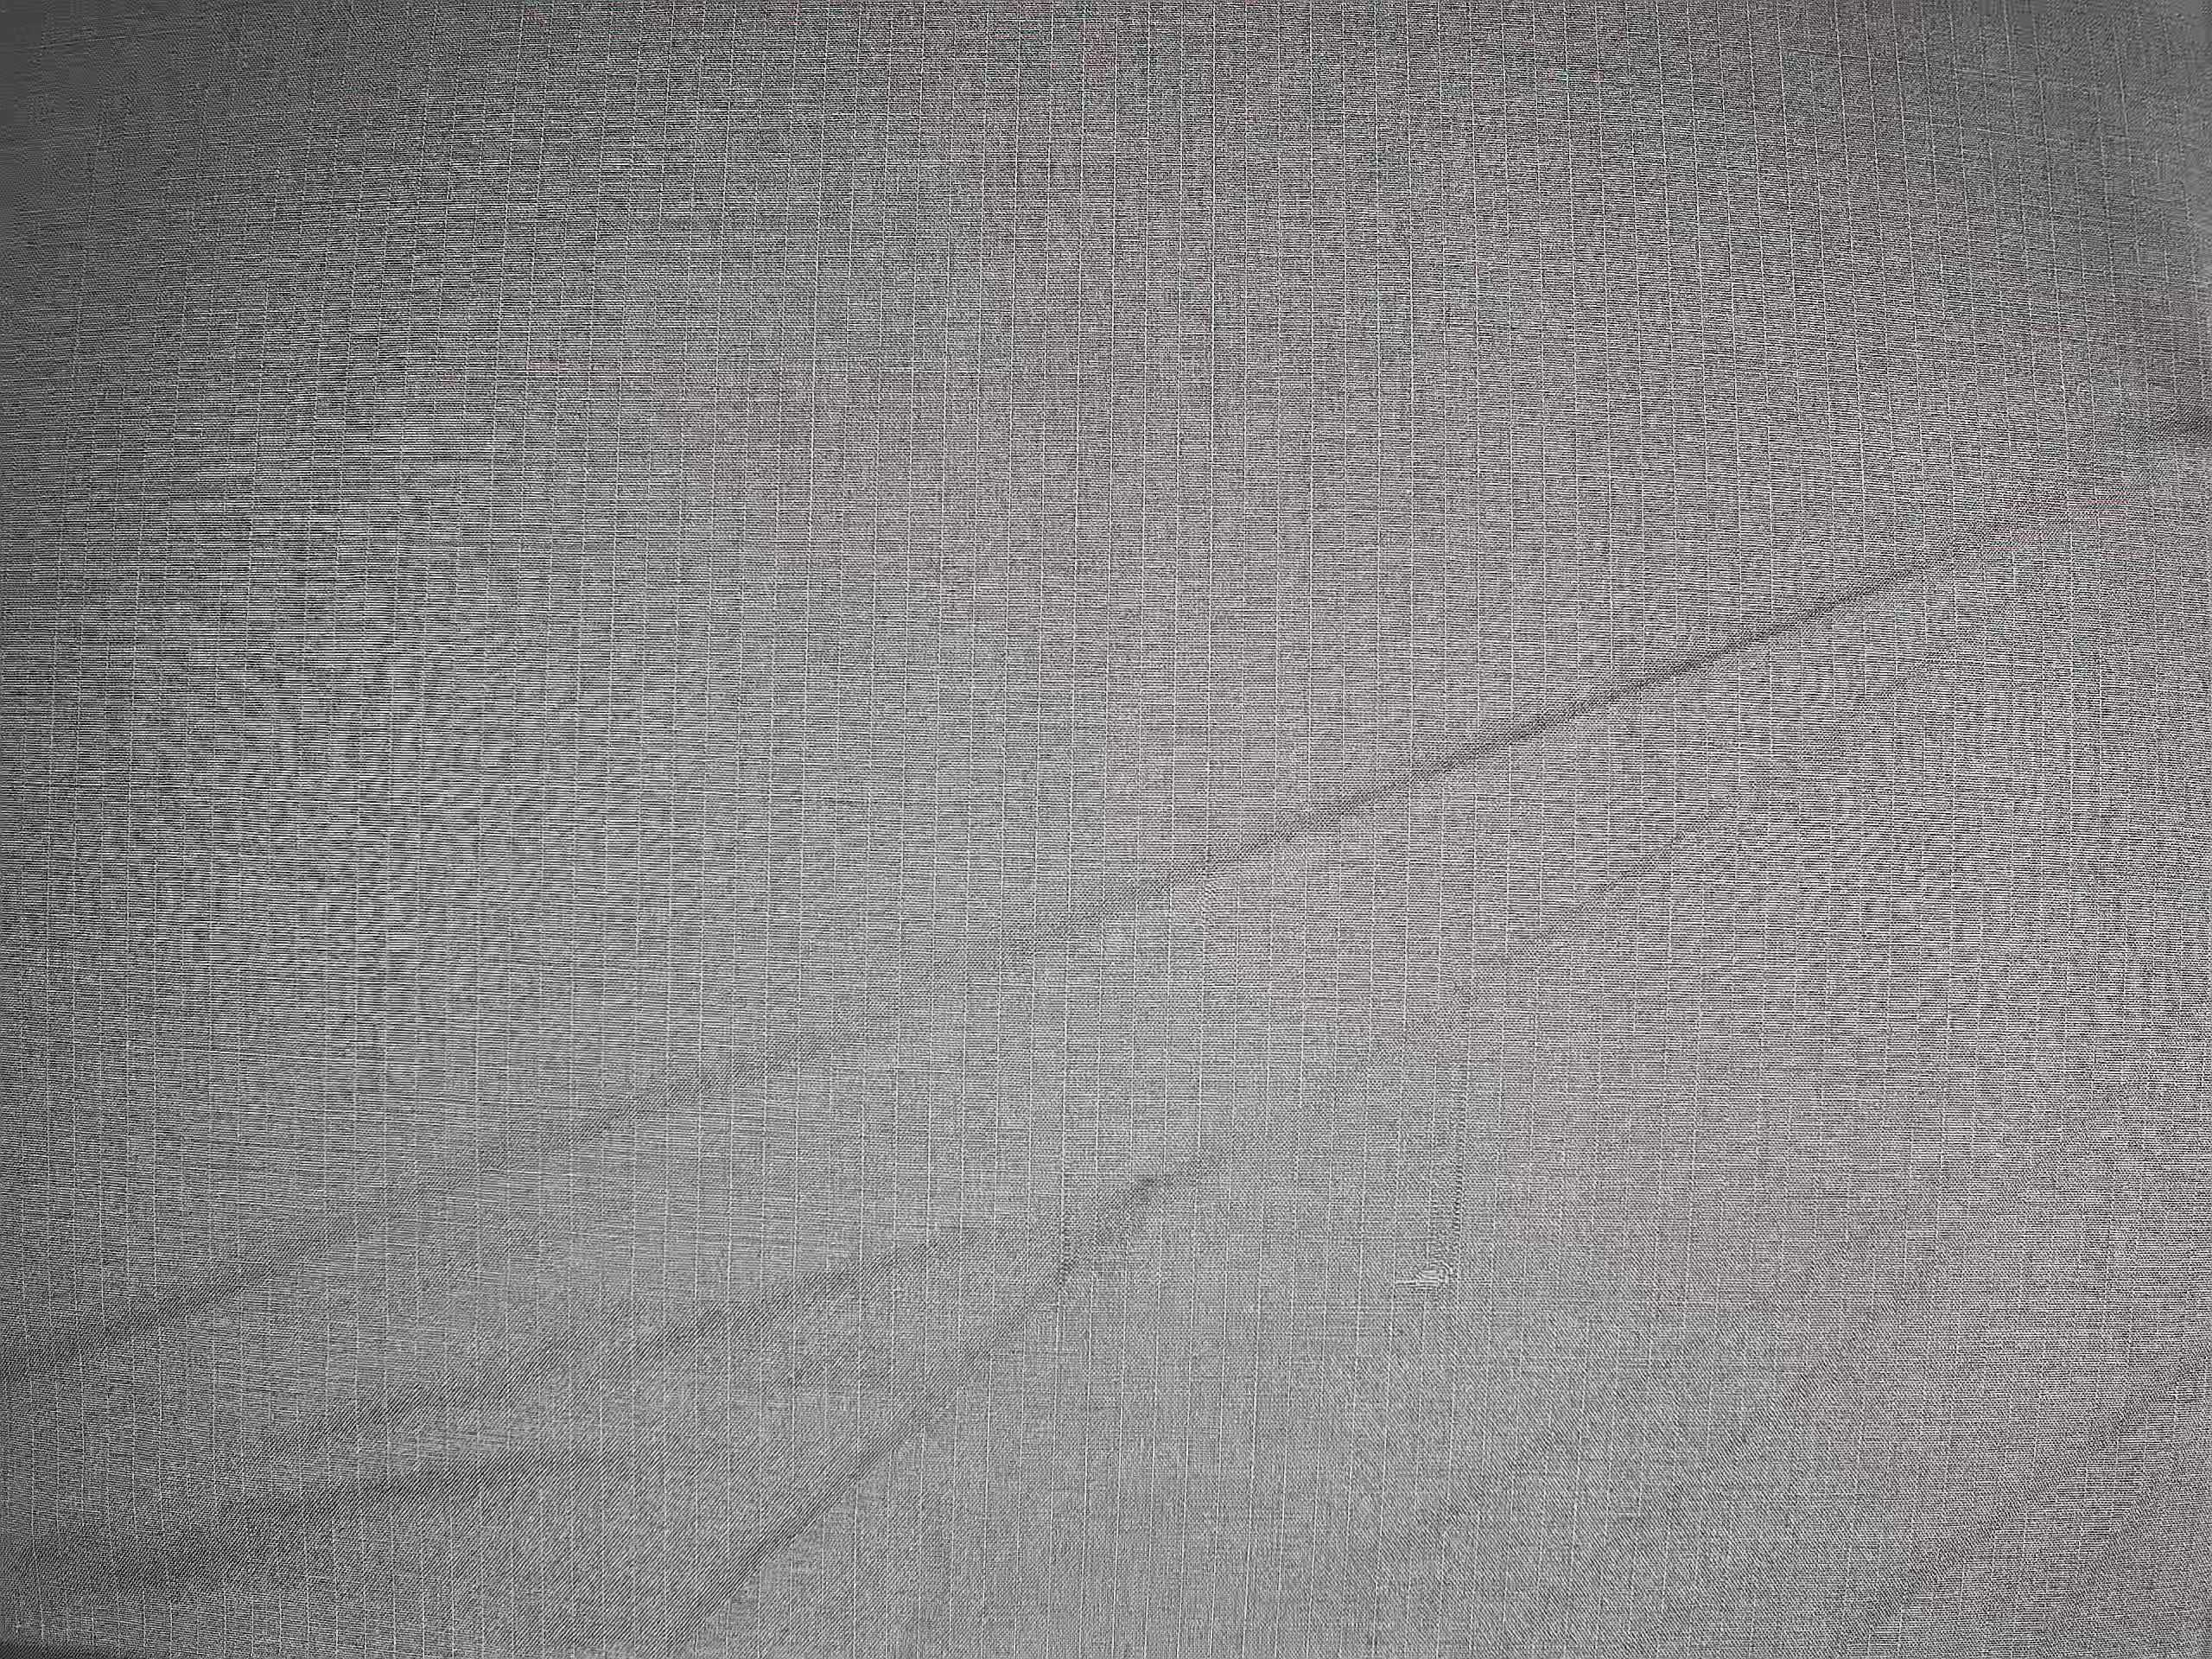hanging-warp: (1447, 1077, 1474, 1244), (1055, 1138, 1075, 1310)
jumps: (1386, 1255, 1470, 1303)
